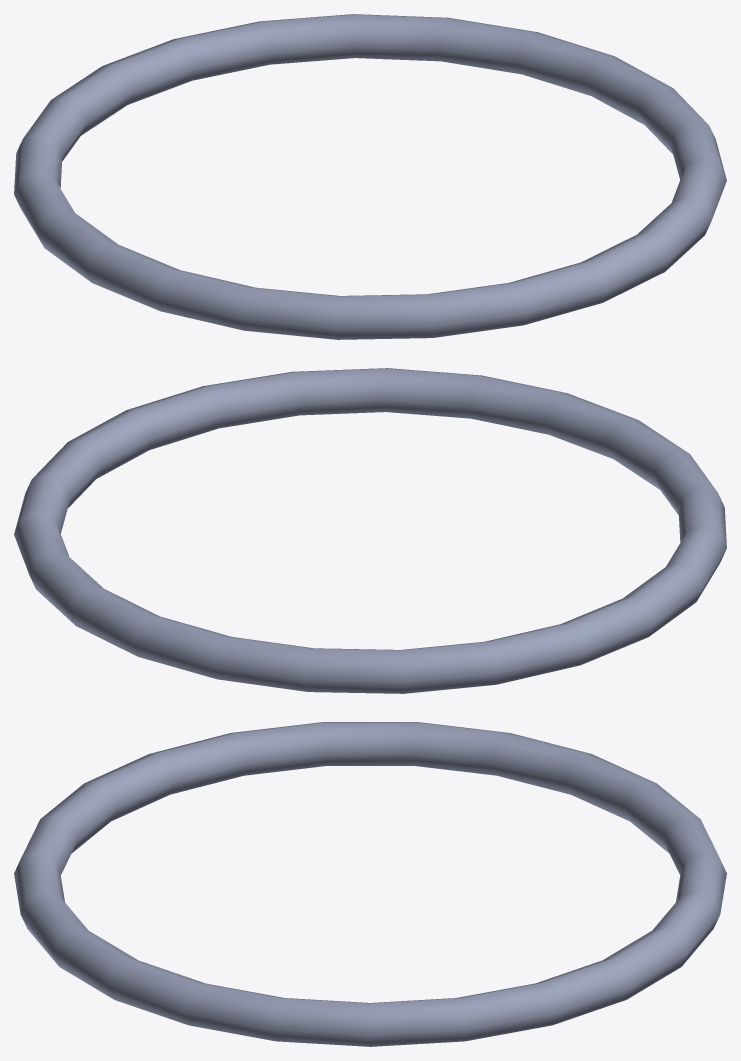
Rendered from daaaa(2).fbx.
3 renders of one model, top to bottom at view 1: azimuth 30°, elevation 25°; view 2: azimuth 150°, elevation 25°; view 3: azimuth 270°, elevation 25°, orthographic.
Visible parts, largest first — view 1: Torus.001; view 2: Torus.001; view 3: Torus.001.
Boxes of the visible parts, x1=… form: Torus.001: x1=14, y1=14, x2=726, y2=339; Torus.001: x1=14, y1=368, x2=726, y2=693; Torus.001: x1=14, y1=722, x2=726, y2=1046.
Bounding box in the file's own units: 213 × 14 × 214.
